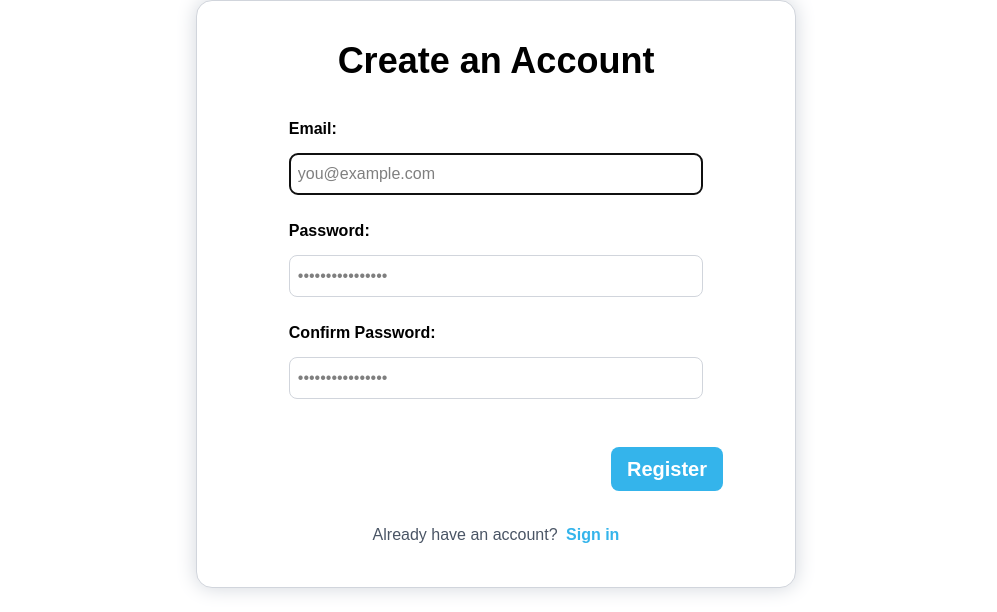
RegisterPanel › shows invalid email and invalid password tooltips when register() returns with "Invalid email and invalid password" error
This screenshot has width=997, height=612.
Type "bademailexample" into the field named "Email:*" at (496, 174), box [289,153,703,195]
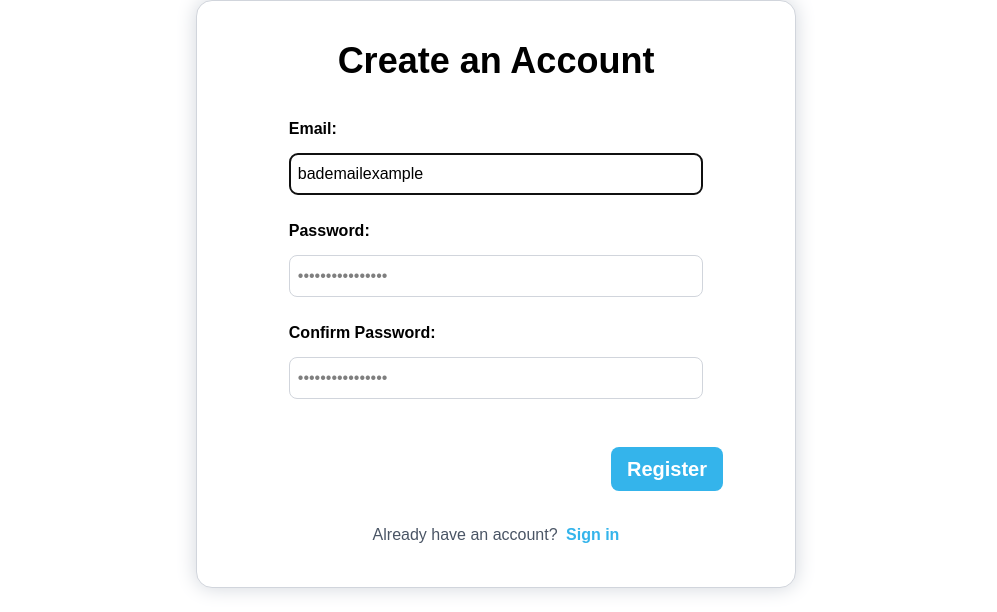
Type "PasswordWithNoDigits@" into the password field named "Password:*" at (496, 276), box [289,255,703,297]
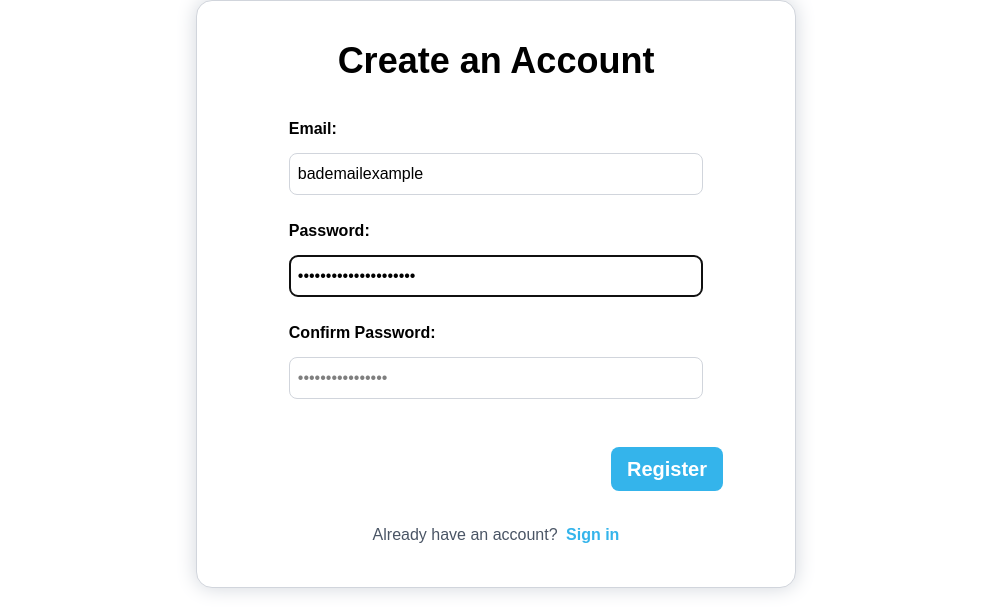
Type "PasswordWithNoDigits@" into the password field named "Confirm Password:*" at (496, 378), box [289,357,703,399]
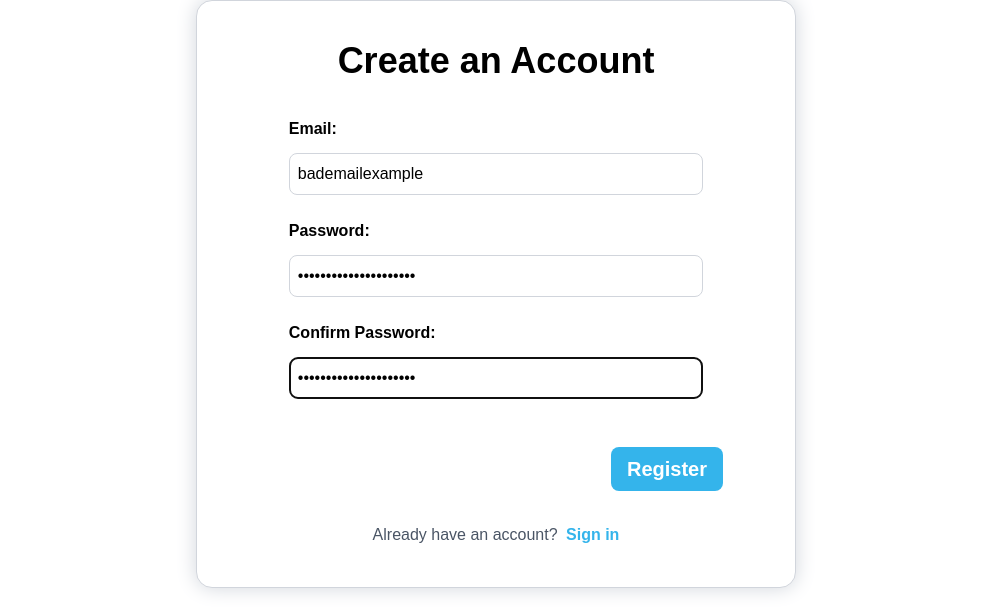
Click the button "Register" at (667, 469), box [611,447,723,491]
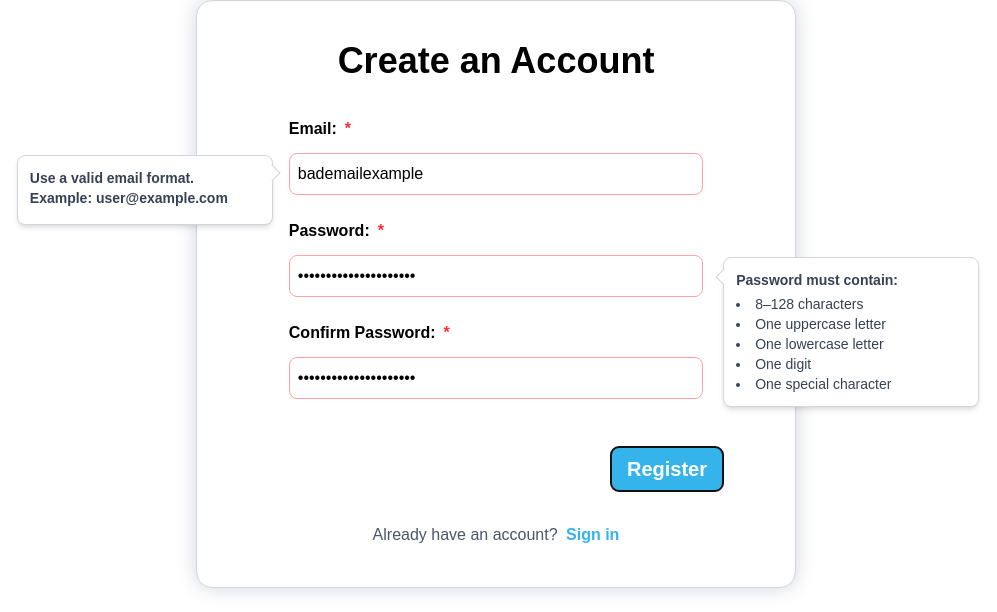
Expected: the text "Use a valid email format. Example: user@example.com" is shown, [30,168,260,208]
Expected: the text "Password must contain:" is shown, [736,272,898,288]
